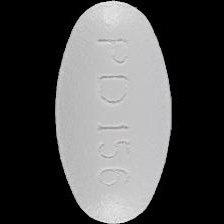68645-459: (0, 0, 224, 224)
